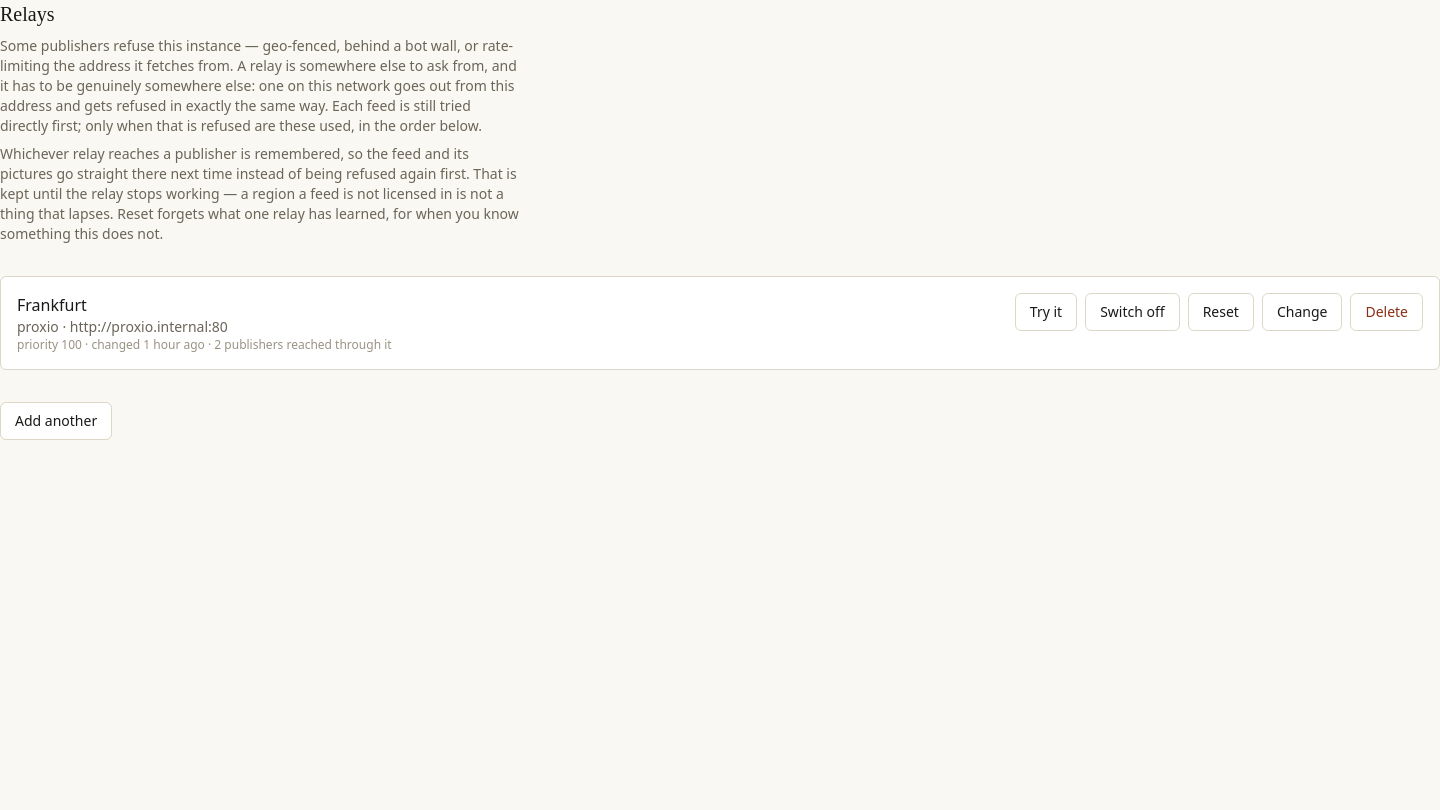
it: ProxiesPage › reports a relay's own refusal as the relay's, not as the target's
Click the button "Try it".
click(1046, 312)  # box left=1015, top=293, right=1077, bottom=331
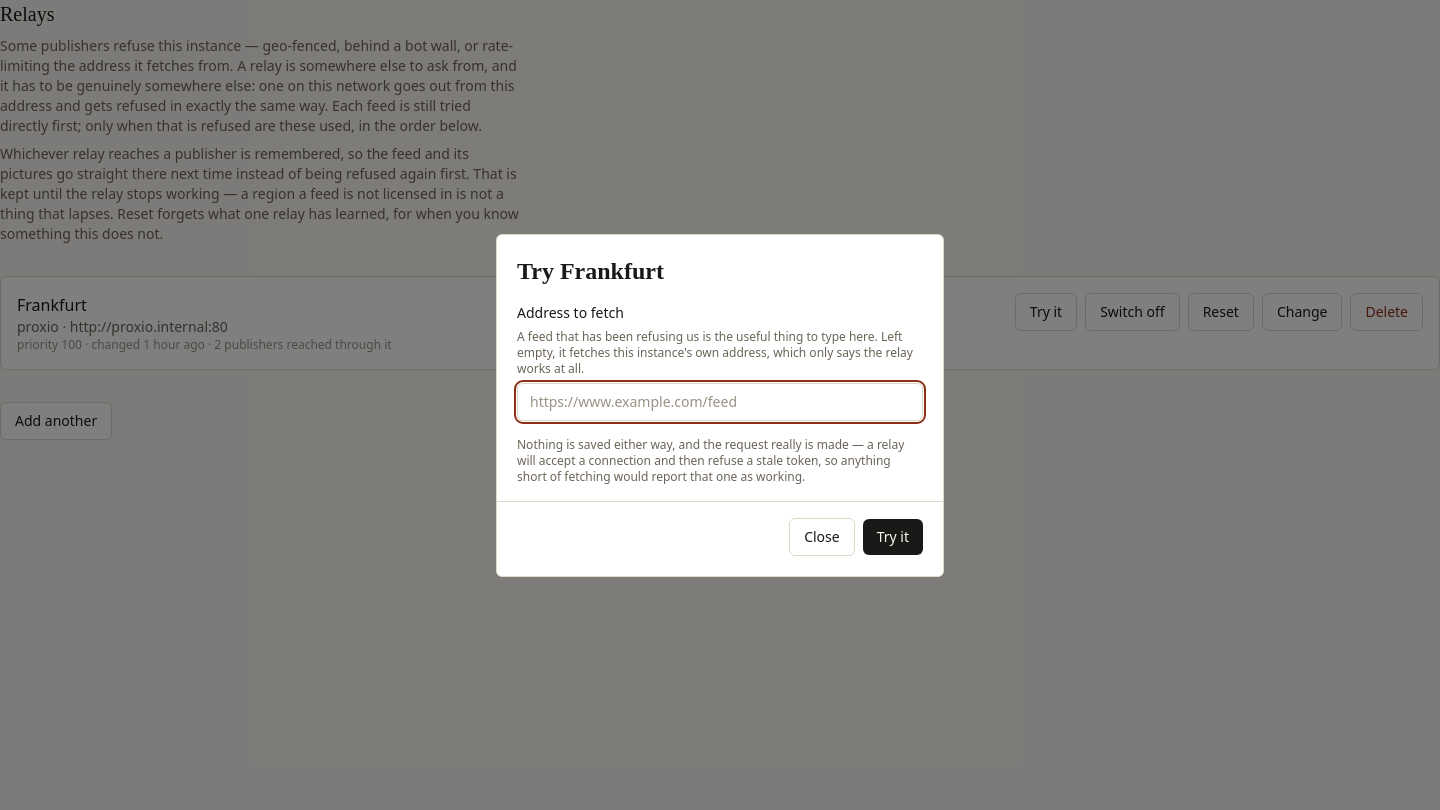
Click the button "Try it".
click(893, 536)  # box left=863, top=518, right=923, bottom=554
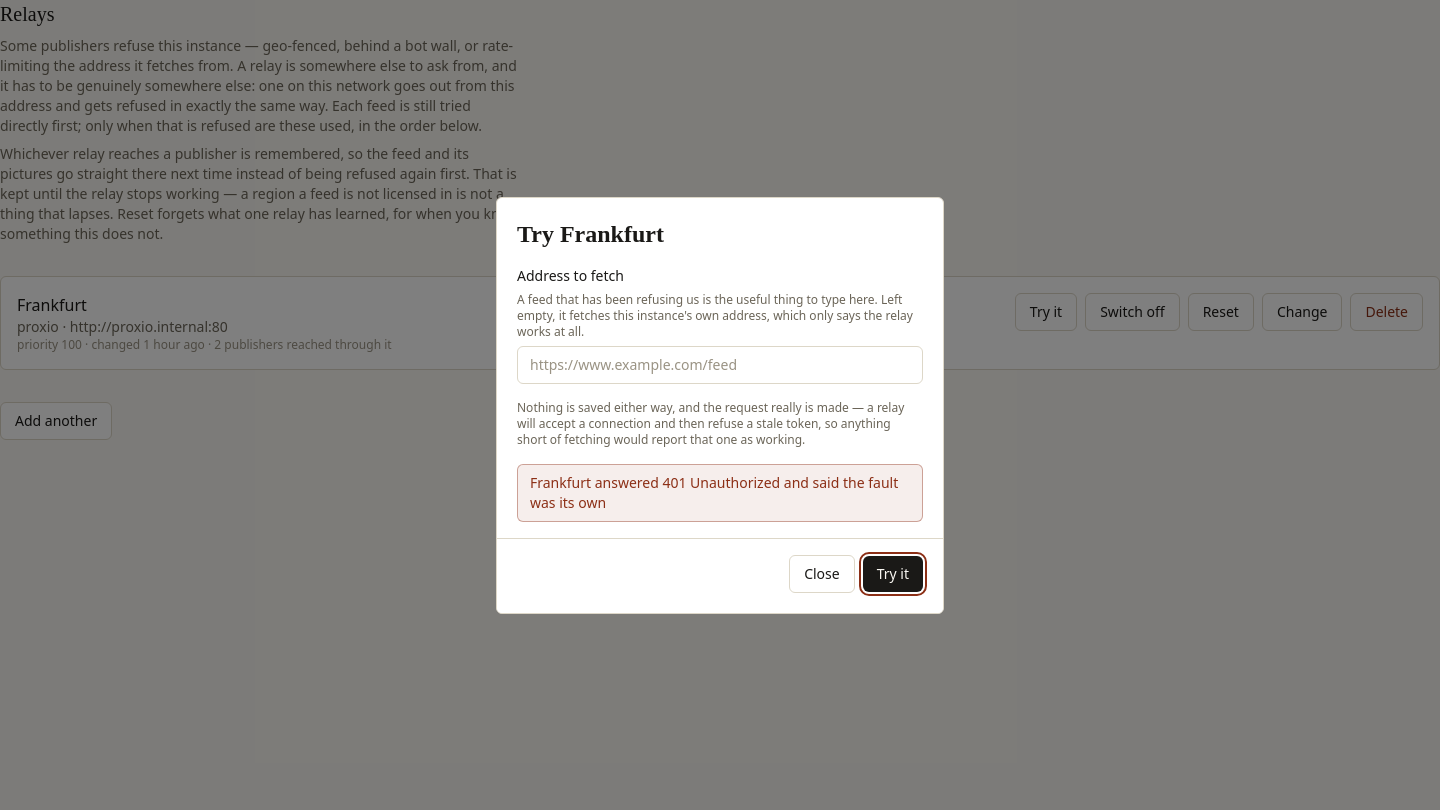
Now the text "Frankfurt answered 401 Unauthorized and said the fault was its own" is shown, box left=517, top=464, right=923, bottom=522
